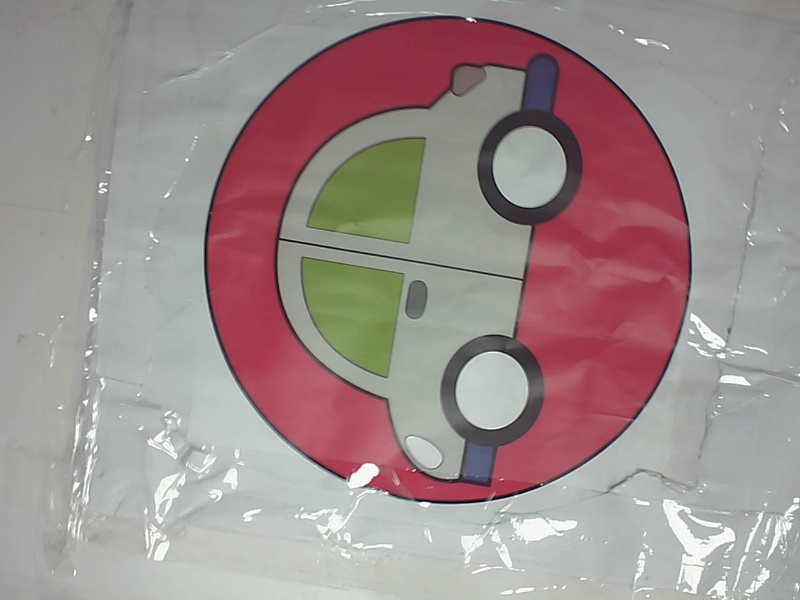areaC: (203, 9, 708, 519)
